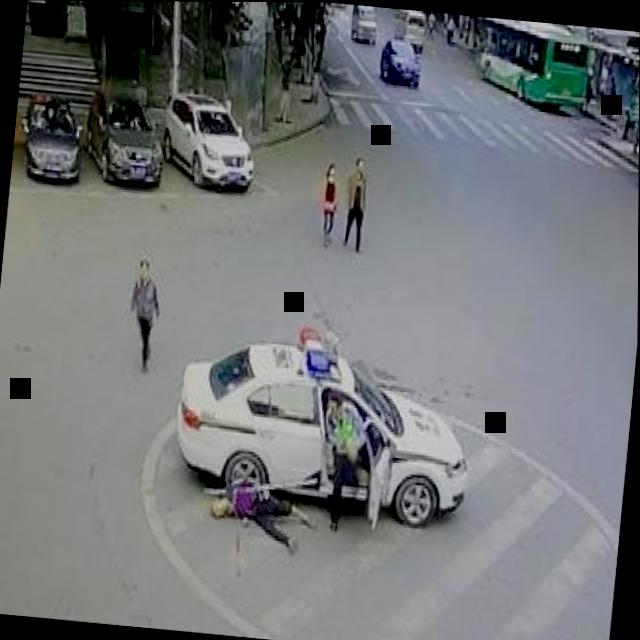Fall-Detected: (195, 459, 313, 560)
